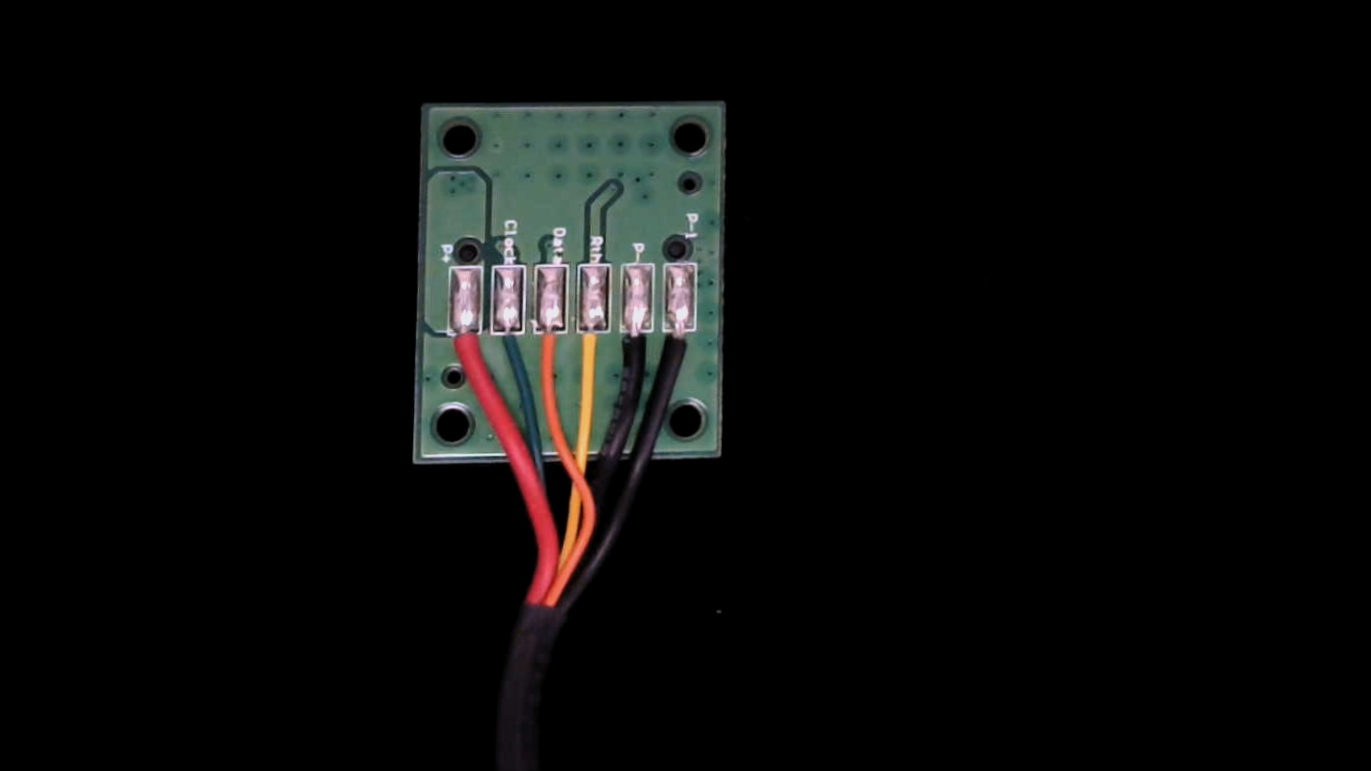Black: (614, 316, 656, 386)
Black1: (661, 316, 698, 377)
Green: (490, 315, 530, 377)
Orange: (530, 313, 569, 380)
Red: (444, 320, 484, 385)
Yellow: (572, 316, 610, 384)
